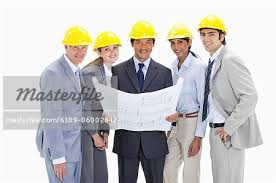Person_wearing_helmet: (60, 20, 87, 51), (190, 17, 226, 36), (92, 31, 121, 51), (129, 25, 153, 45), (168, 27, 188, 47)
